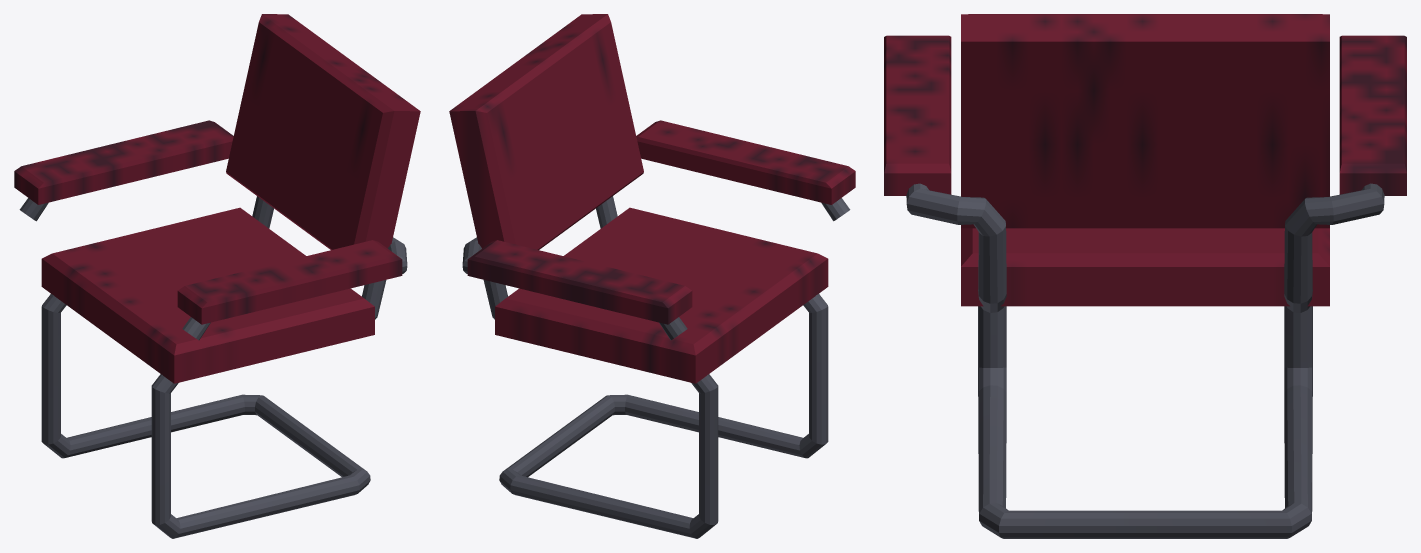
Rendered from Chair.fbx.
3 renders of one model, left to right at view 1: azimuth 30°, elevation 25°; view 2: azimuth 150°, elevation 25°; view 3: azimuth 270°, elevation 25°, orthographic. The views are drawn at different scales.
Parts seen in each view (by area): view 1: Куб.209; view 2: Куб.209; view 3: Куб.209.
Boxes of the visible parts, x1=… form: Куб.209: x1=14, y1=14, x2=420, y2=538; Куб.209: x1=449, y1=14, x2=855, y2=538; Куб.209: x1=884, y1=14, x2=1406, y2=538.
Bounding box in the file's own units: 85.37 × 122 × 108.
